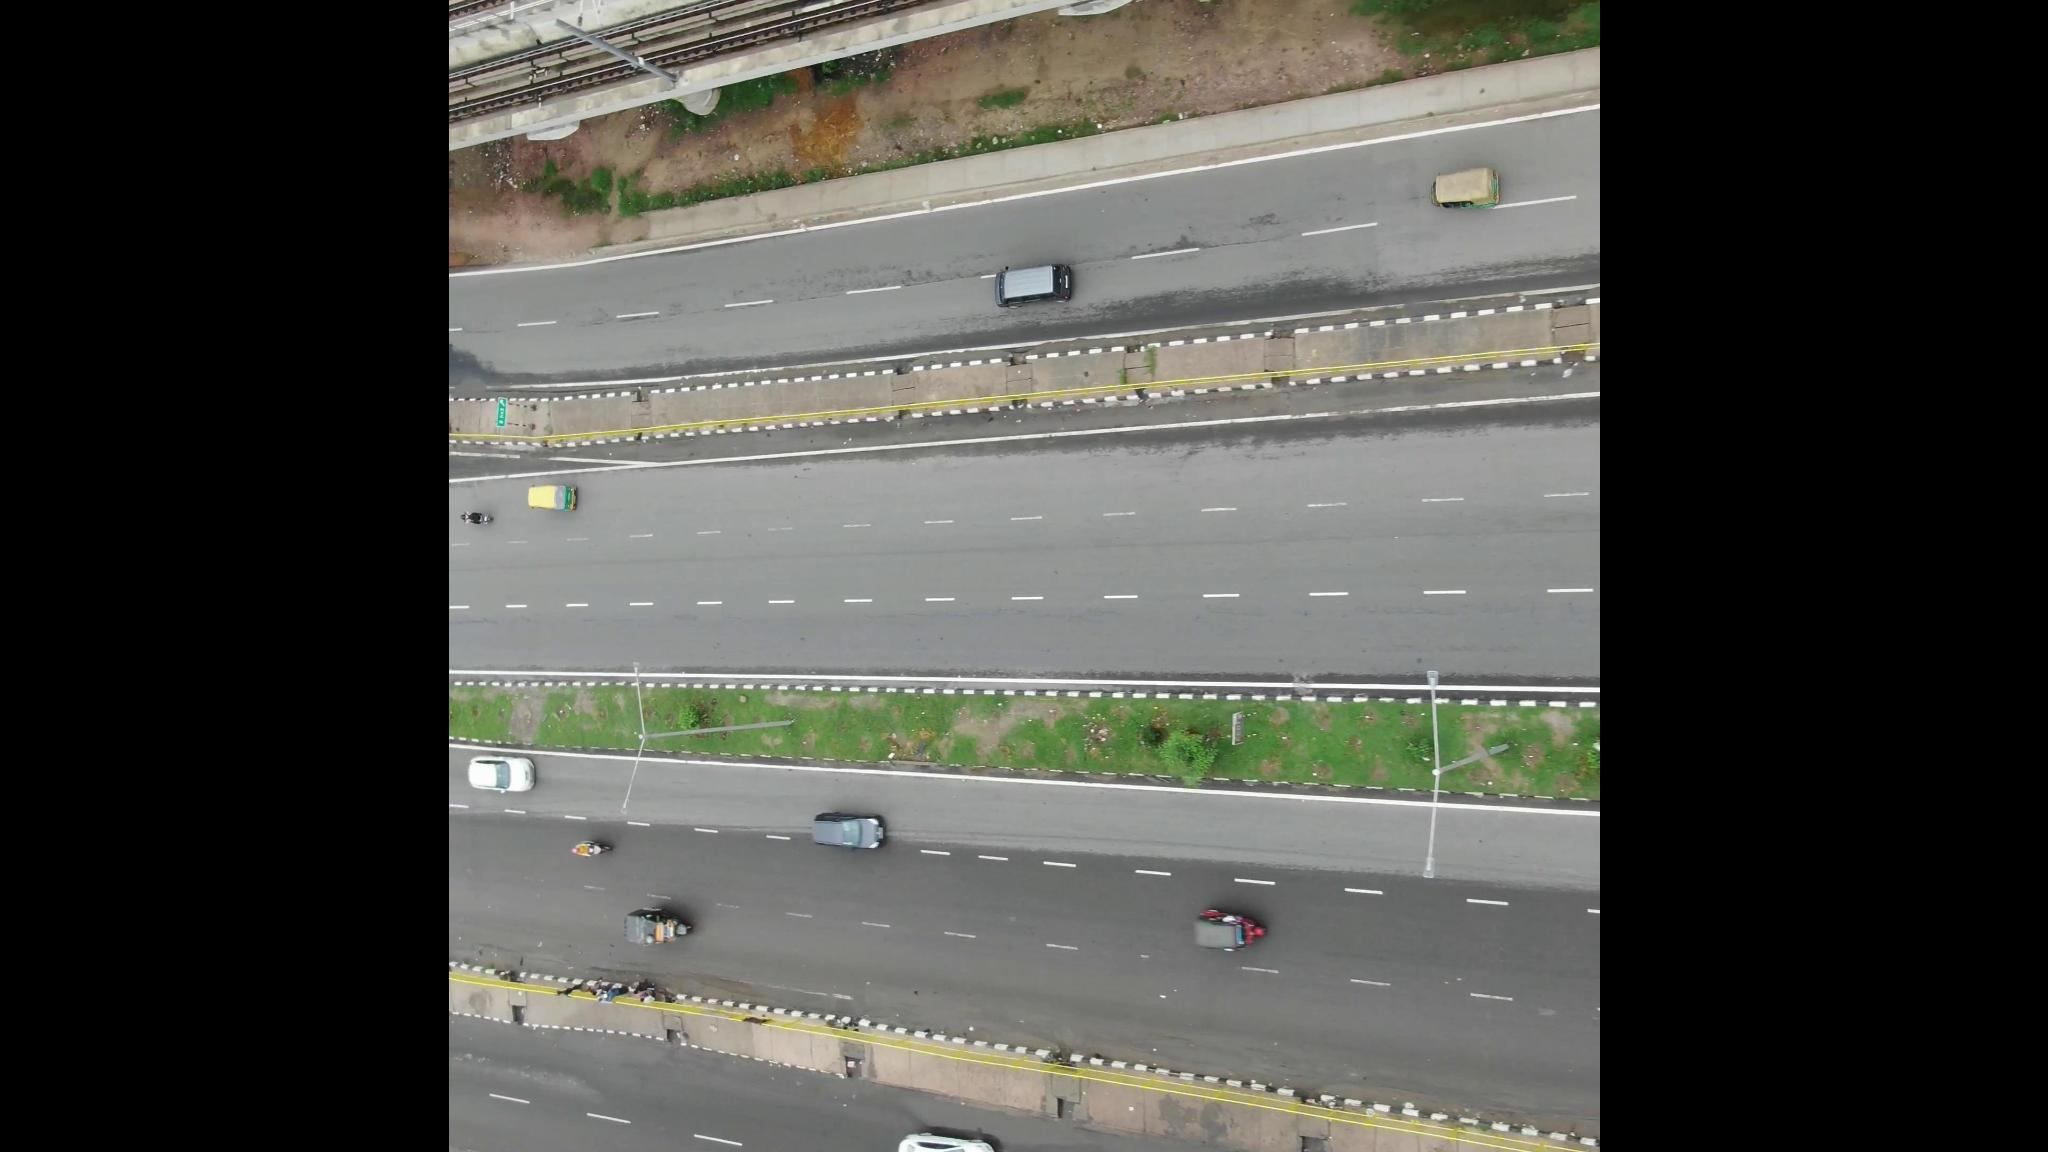Waterlogging: (1049, 1122, 1288, 1152)
